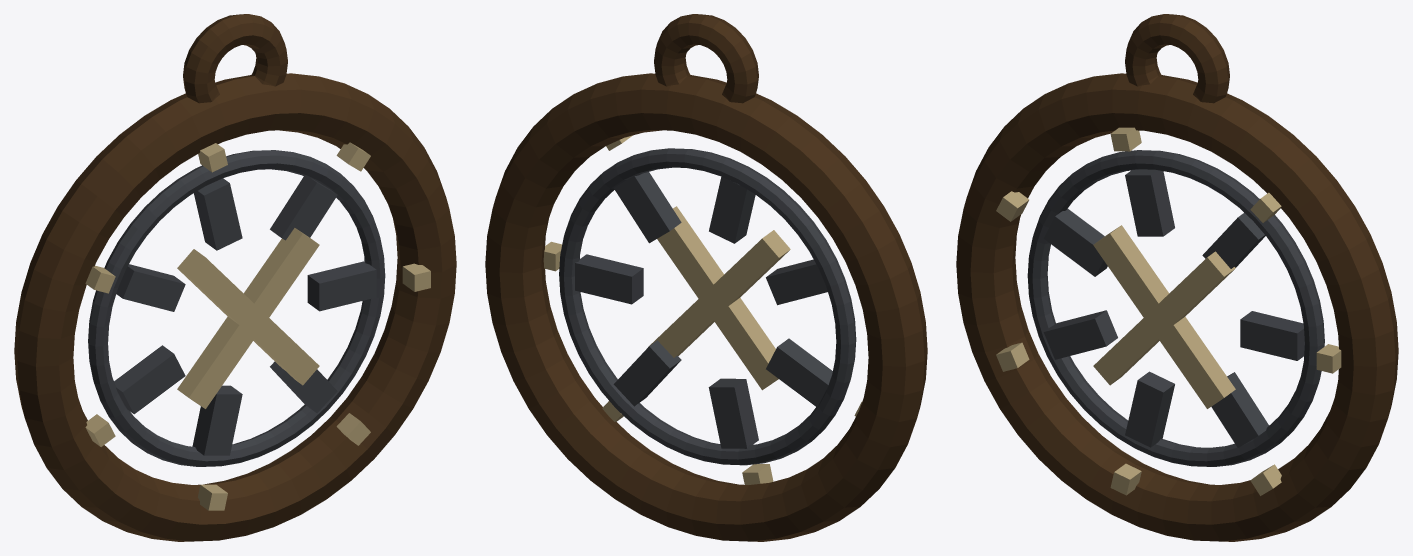
Rendered from VeilWardAmulet_LOD0.obj.
The picture shows the model from 3 angles, left to right: view 1: azimuth 30°, elevation 25°; view 2: azimuth 150°, elevation 25°; view 3: azimuth 330°, elevation 25°; orthographic projection.
Parts seen in each view (by area): view 1: VeilWardAmulet1348_LOD0; view 2: VeilWardAmulet1348_LOD0; view 3: VeilWardAmulet1348_LOD0.
Boxes of the visible parts, left/top/right/bottom form: VeilWardAmulet1348_LOD0: left=14, top=14, right=456, bottom=541; VeilWardAmulet1348_LOD0: left=485, top=14, right=927, bottom=541; VeilWardAmulet1348_LOD0: left=956, top=14, right=1398, bottom=541.
Size of the model in its own units: 1.07 by 1.22 by 0.15.
